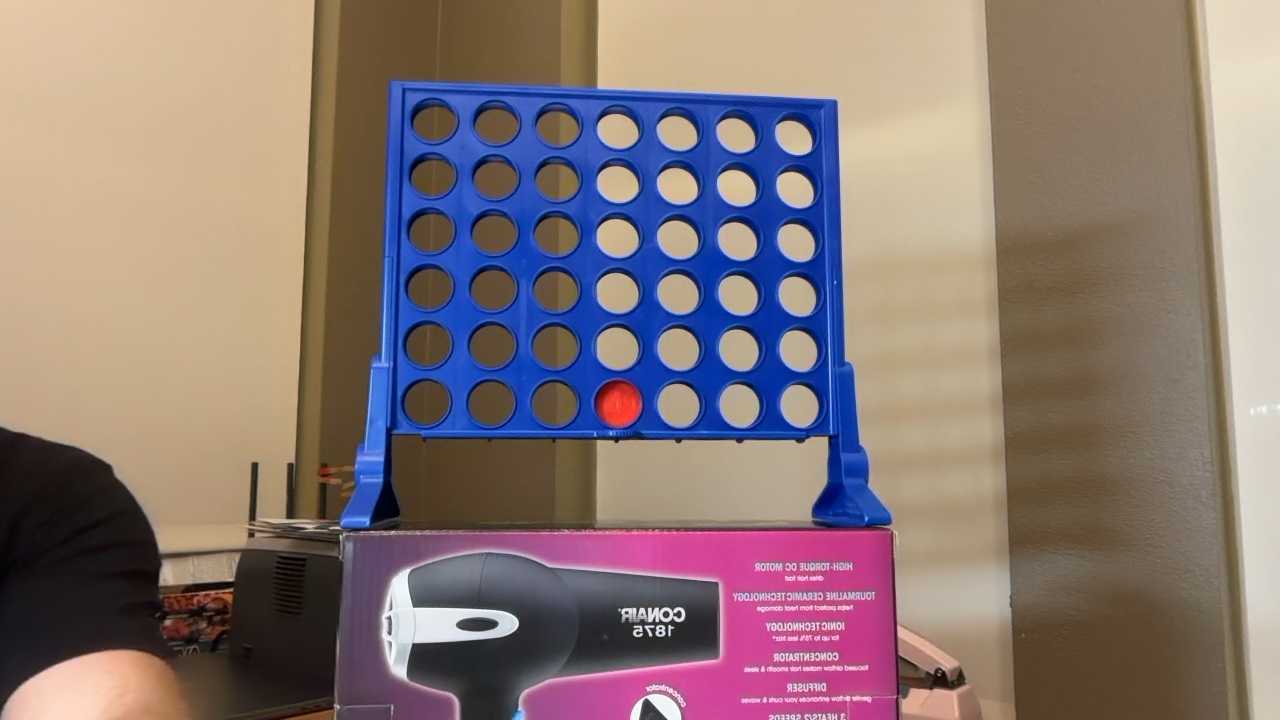red piece: (594, 380, 642, 428)
